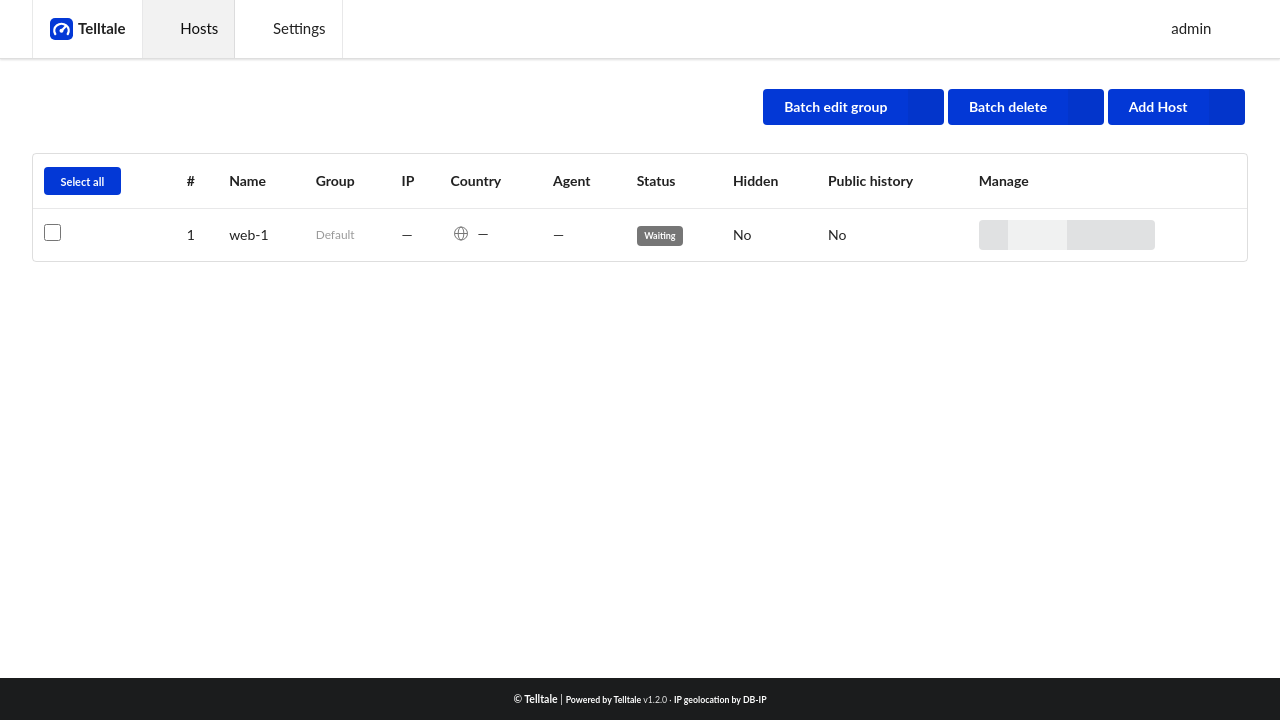
it: admin panel › warns when a batch action has nothing selected
Click the button "Batch delete" at (1026, 107), box [948,89,1104,125]
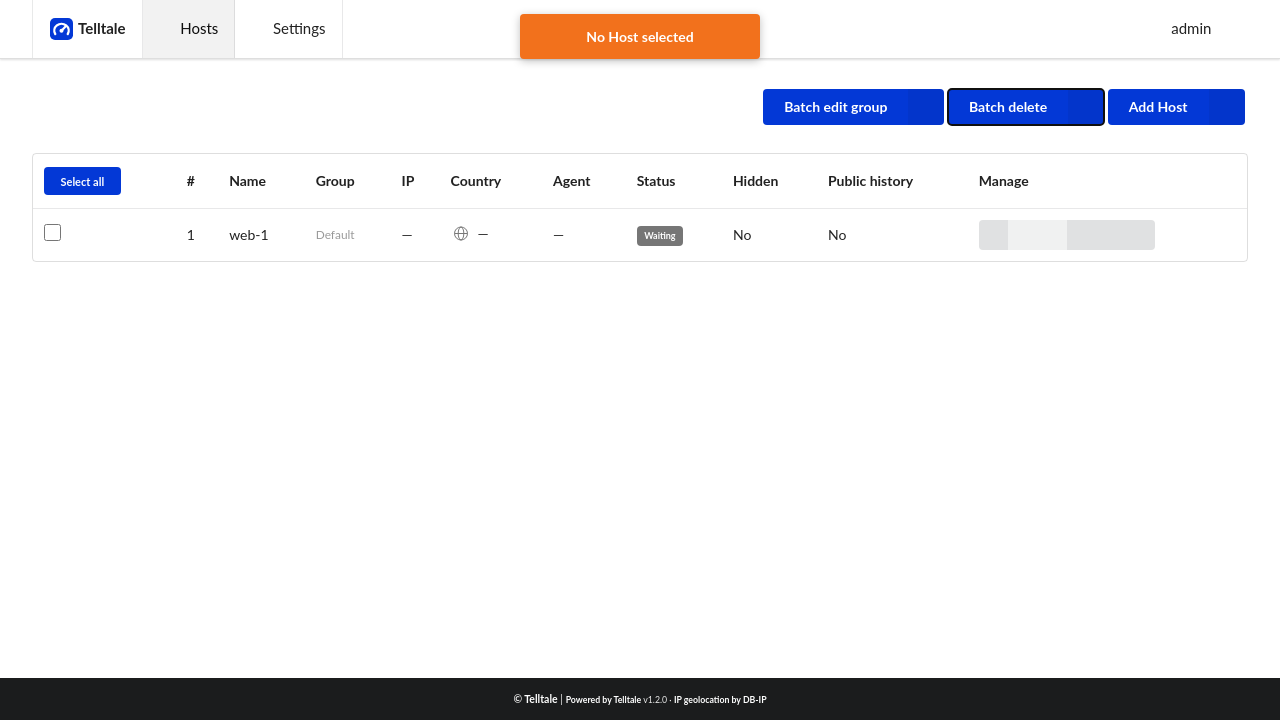
Check: the message reads "No Host selected", box [586,28,694,45]
